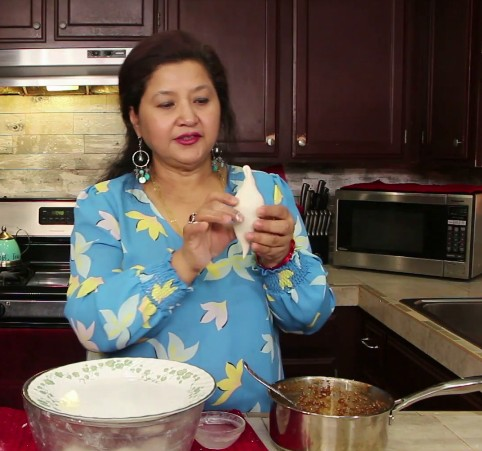yomari: (235, 164, 262, 258)
